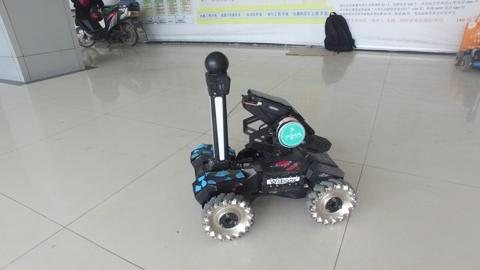bag: (322, 8, 357, 57)
chariot: (188, 50, 357, 242)
